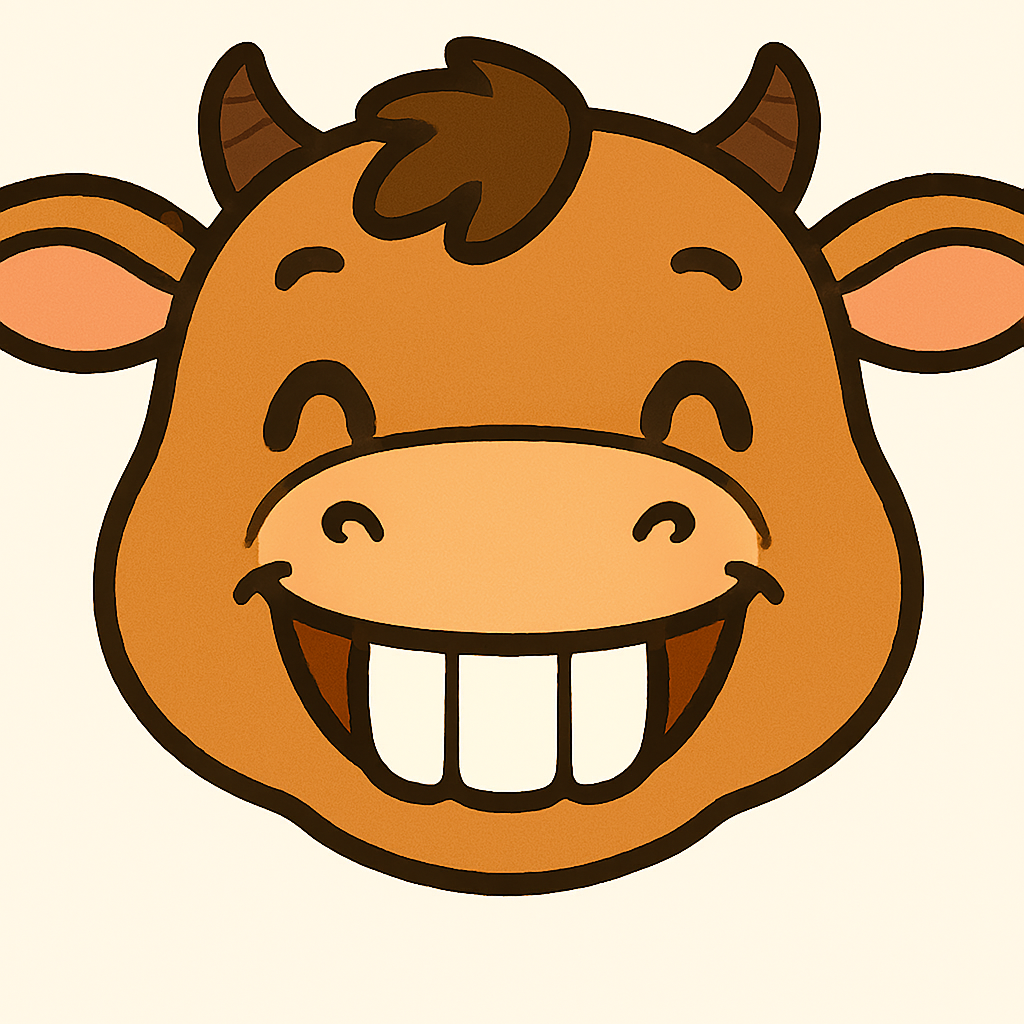Tand: (451, 641, 562, 795), (561, 634, 658, 795), (364, 642, 455, 796)
